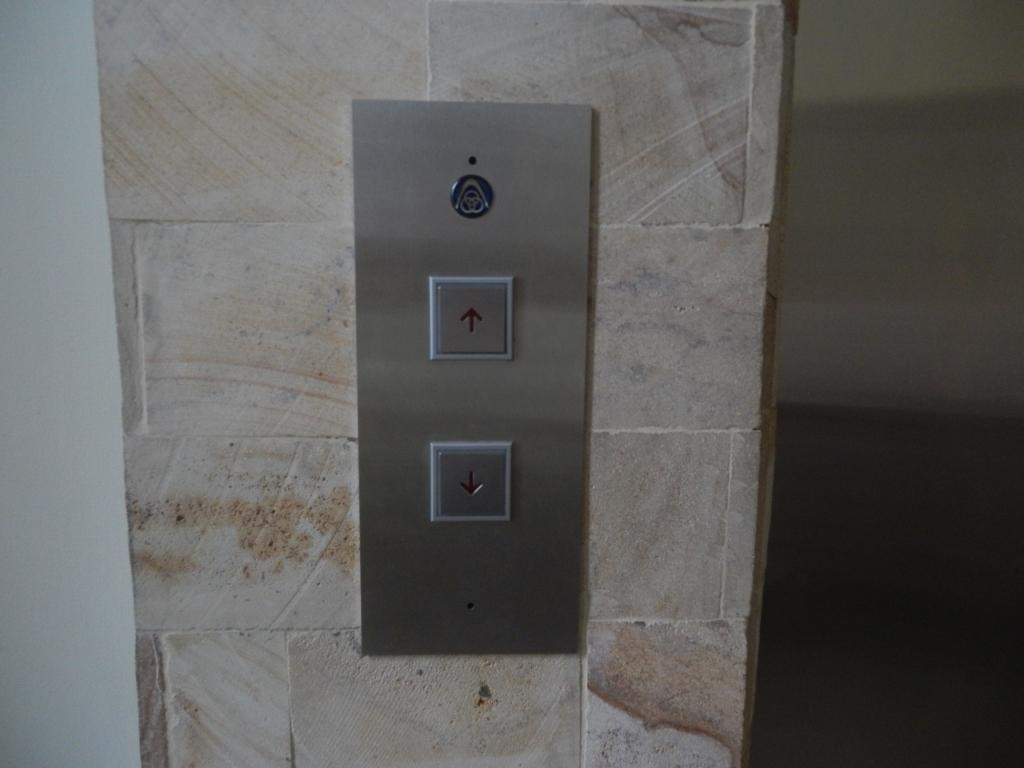down: (427, 441, 513, 521)
up: (425, 271, 514, 359)
